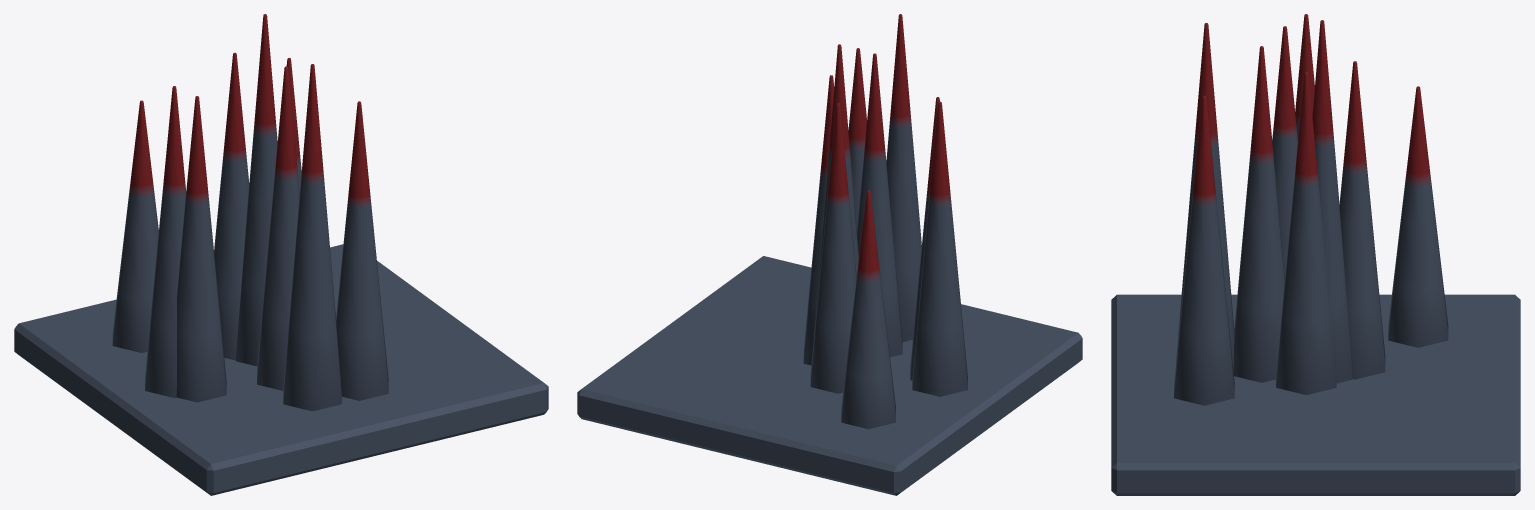
File: prop_spikes2_6fe0.glb
3 views of the same model, side by side, from view 1: azimuth 30°, elevation 25°; view 2: azimuth 150°, elevation 25°; view 3: azimuth 270°, elevation 25° (orthographic). The views are drawn at different scales.
Parts seen in each view (by area): view 1: prop_spikes2_6fe0; view 2: prop_spikes2_6fe0; view 3: prop_spikes2_6fe0.
Boxes of the visible parts, x1,y1,x2,y2 form: prop_spikes2_6fe0: (14,14,548,495); prop_spikes2_6fe0: (577,14,1082,495); prop_spikes2_6fe0: (1111,14,1520,495).
Bounding box in the file's own units: 0.7954 × 0.8526 × 0.7954.
1 material, 1 textured.
